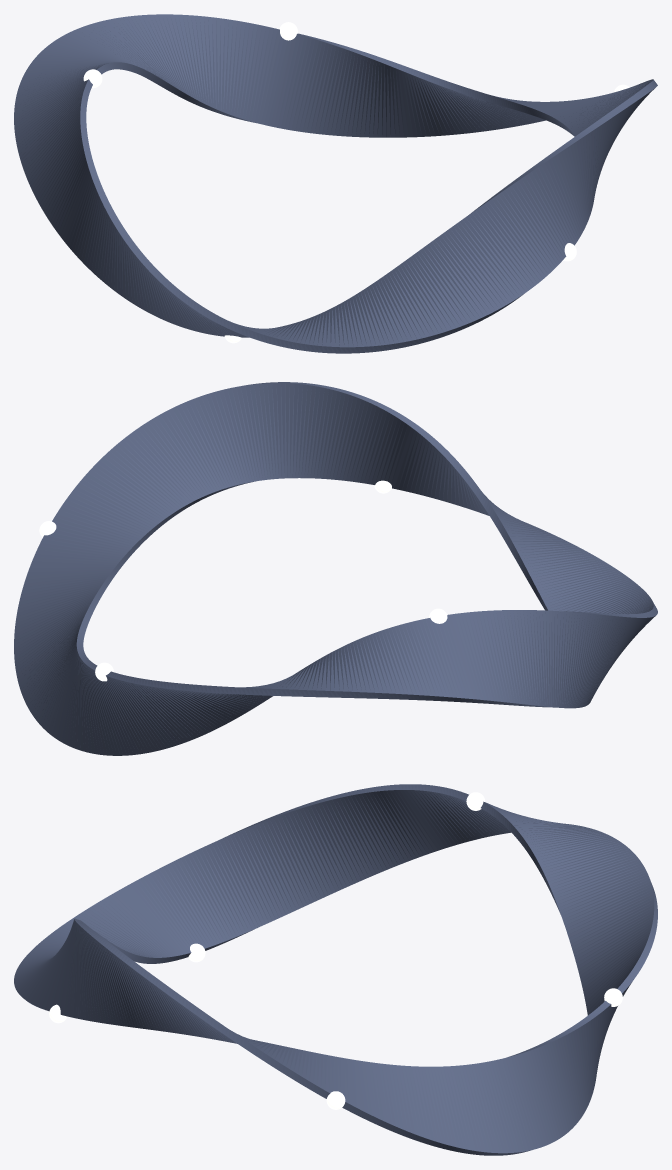
The model's file is pixelcliq-compound-loop.glb.
The picture shows the model from 3 angles, top to bottom: view 1: azimuth 30°, elevation 25°; view 2: azimuth 150°, elevation 25°; view 3: azimuth 270°, elevation 25°; orthographic projection.
Parts seen in each view (by area): view 1: compound_loop; view 2: compound_loop; view 3: compound_loop.
Part boxes in pixels (<box>): compound_loop: <box>14,14,657,353</box>; compound_loop: <box>14,382,657,755</box>; compound_loop: <box>14,784,657,1155</box>.
Bounding box in the file's own units: 3.02 × 1 × 3.09.
